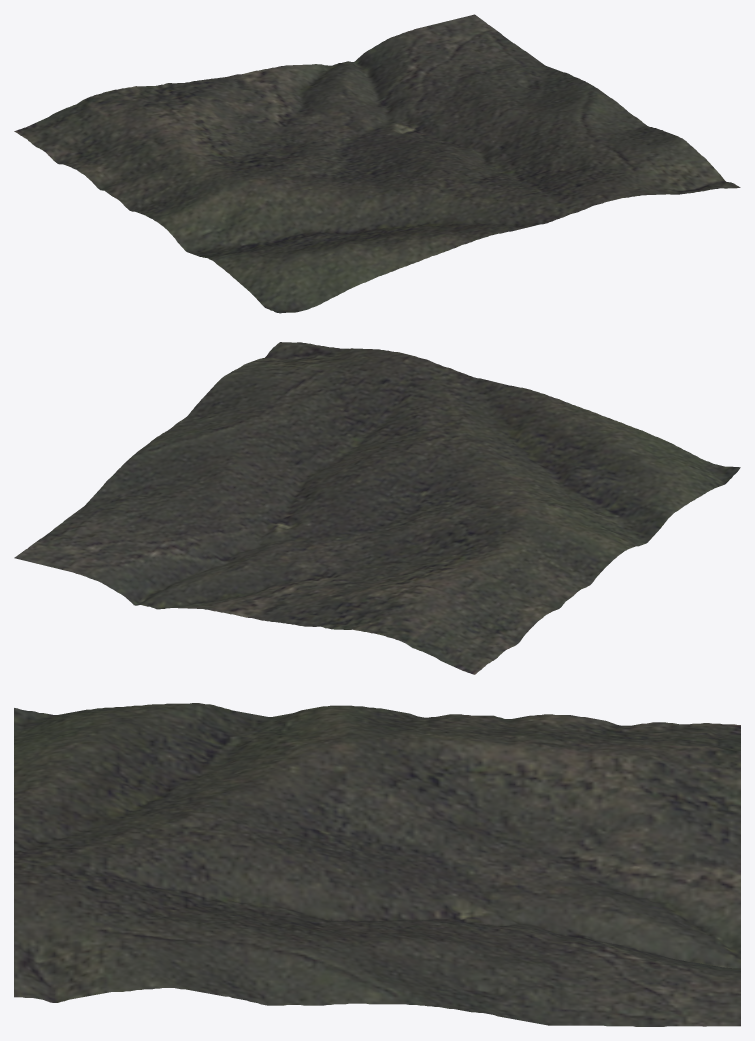
Rendered from tile_5_3.glb.
3 views of the same model, one above another, from view 1: azimuth 30°, elevation 25°; view 2: azimuth 150°, elevation 25°; view 3: azimuth 270°, elevation 25° (orthographic). The views are drawn at different scales.
Parts seen in each view (by area): view 1: tile_5_3; view 2: tile_5_3; view 3: tile_5_3.
Part boxes in pixels (x1,y1,x2,y2): tile_5_3: [14, 14, 740, 313]; tile_5_3: [14, 342, 740, 674]; tile_5_3: [14, 703, 740, 1026].
Bounding box in the file's own units: 1000 × 121 × 1000.
1 material, 1 textured.
